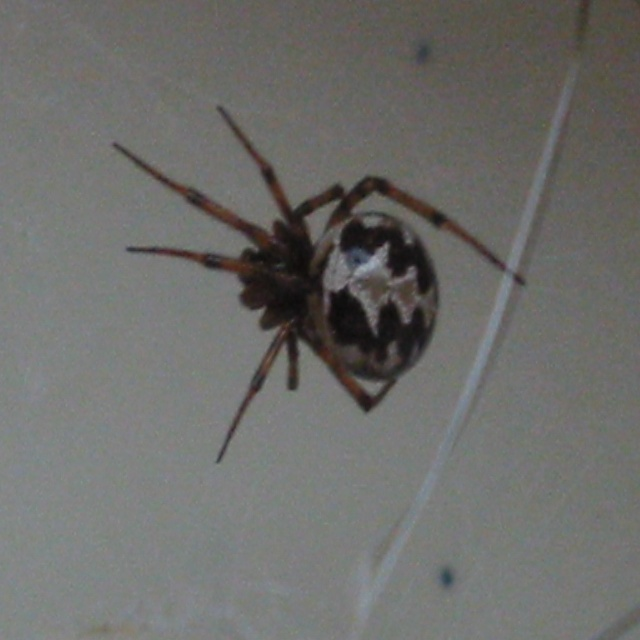Spider: (109, 103, 526, 466)
